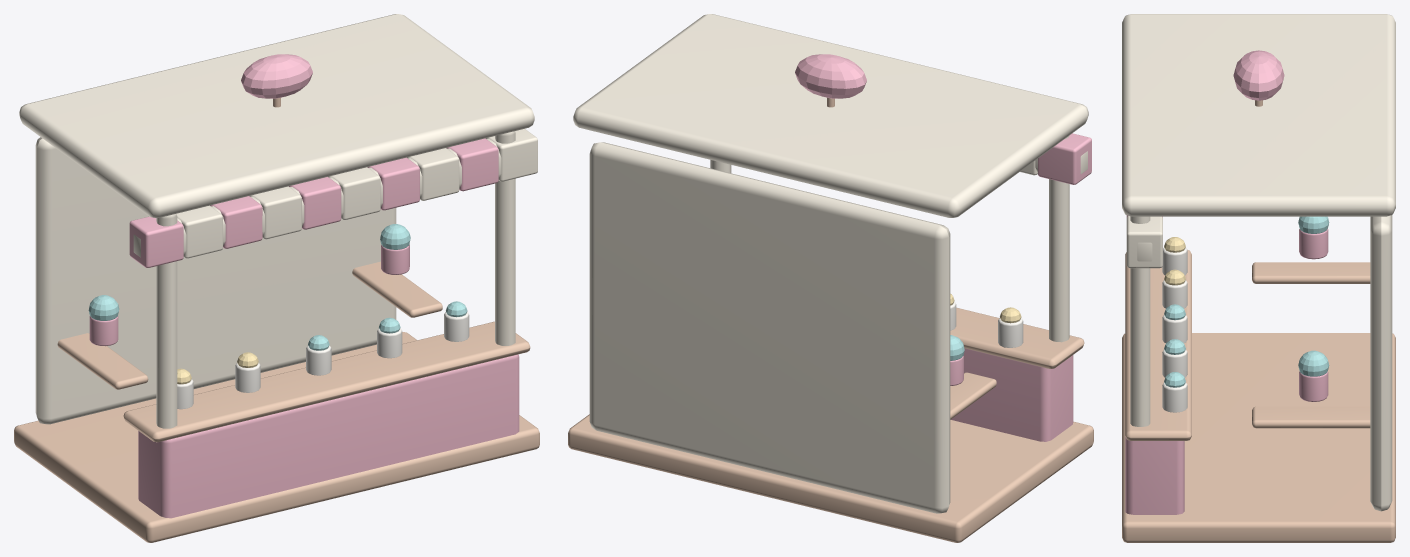
File: Kiosk.fbx
The picture shows the model from 3 angles, left to right: view 1: azimuth 30°, elevation 25°; view 2: azimuth 150°, elevation 25°; view 3: azimuth 270°, elevation 25°; orthographic projection.
Parts seen in each view (by area): view 1: Roof, BackWall, CounterFront, Platform, CounterTop, FrontPillar, FrontPillar.001, RoofCandy, SideShelf, SideShelf.001, AwningStripe00, AwningStripe05 (+17 smaller); view 2: BackWall, Roof, Platform, CounterFront, CounterTop, FrontPillar, RoofCandy, AwningStripe00, SideShelf, CandyJar; view 3: Roof, Platform, BackWall, CounterTop, CounterFront, FrontPillar.001, SideShelf.001, SideShelf, RoofCandy, AwningStripe09, ShelfJar, ShelfJar.001 (+7 smaller).
Boxes of the visible parts, x1,y1,x2,y2 form: Roof: [19, 14, 534, 217]; BackWall: [35, 137, 396, 424]; CounterFront: [138, 354, 519, 518]; Platform: [14, 332, 539, 542]; CounterTop: [123, 321, 530, 442]; FrontPillar: [156, 213, 177, 428]; FrontPillar.001: [495, 131, 515, 345]; RoofCandy: [241, 54, 312, 98]; SideShelf: [57, 333, 148, 389]; SideShelf.001: [352, 261, 442, 317]; AwningStripe00: [129, 216, 183, 267]; AwningStripe05: [328, 167, 380, 219]; BackWall: [589, 142, 950, 513]; Roof: [573, 14, 1088, 217]; Platform: [568, 414, 1093, 542]; CounterFront: [951, 348, 1073, 441]; CounterTop: [950, 307, 1084, 368]; FrontPillar: [1049, 136, 1069, 342]; RoofCandy: [795, 54, 866, 98]; AwningStripe00: [1038, 133, 1091, 184]; SideShelf: [950, 372, 996, 419]; CandyJar: [998, 318, 1023, 347]; Roof: [1122, 14, 1395, 216]; Platform: [1122, 333, 1395, 542]; BackWall: [1370, 215, 1392, 511]; CounterTop: [1125, 250, 1191, 440]; CounterFront: [1125, 436, 1184, 514]; FrontPillar.001: [1130, 216, 1150, 426]; SideShelf.001: [1252, 406, 1370, 428]; SideShelf: [1252, 262, 1370, 283]; RoofCandy: [1233, 50, 1284, 100]; AwningStripe09: [1126, 216, 1162, 268]; ShelfJar: [1299, 228, 1328, 259]; ShelfJar.001: [1299, 371, 1328, 401].
Bounding box in the file's own units: 500 × 474 × 300.
